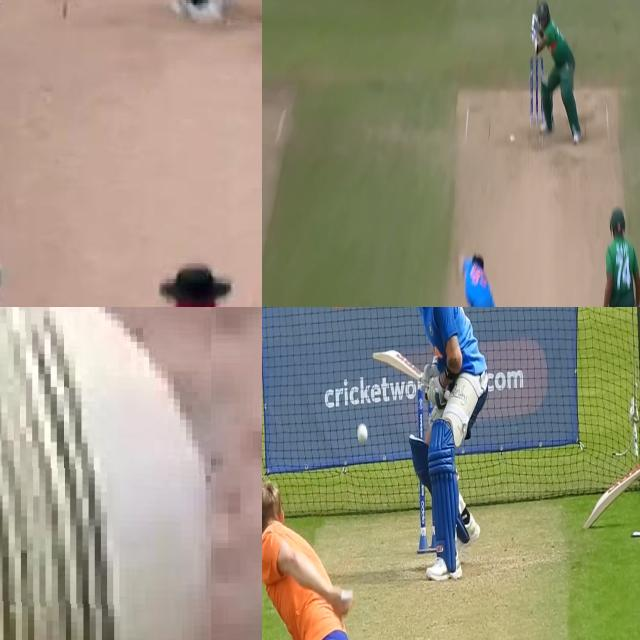Cricket ball: (0, 307, 211, 640), (357, 420, 368, 448), (510, 134, 516, 144)
Stumps: (530, 54, 544, 128)
